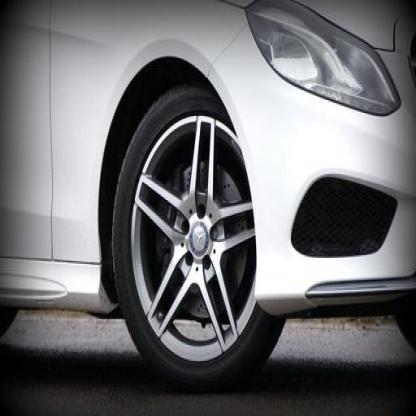Tire: (111, 81, 287, 388)
